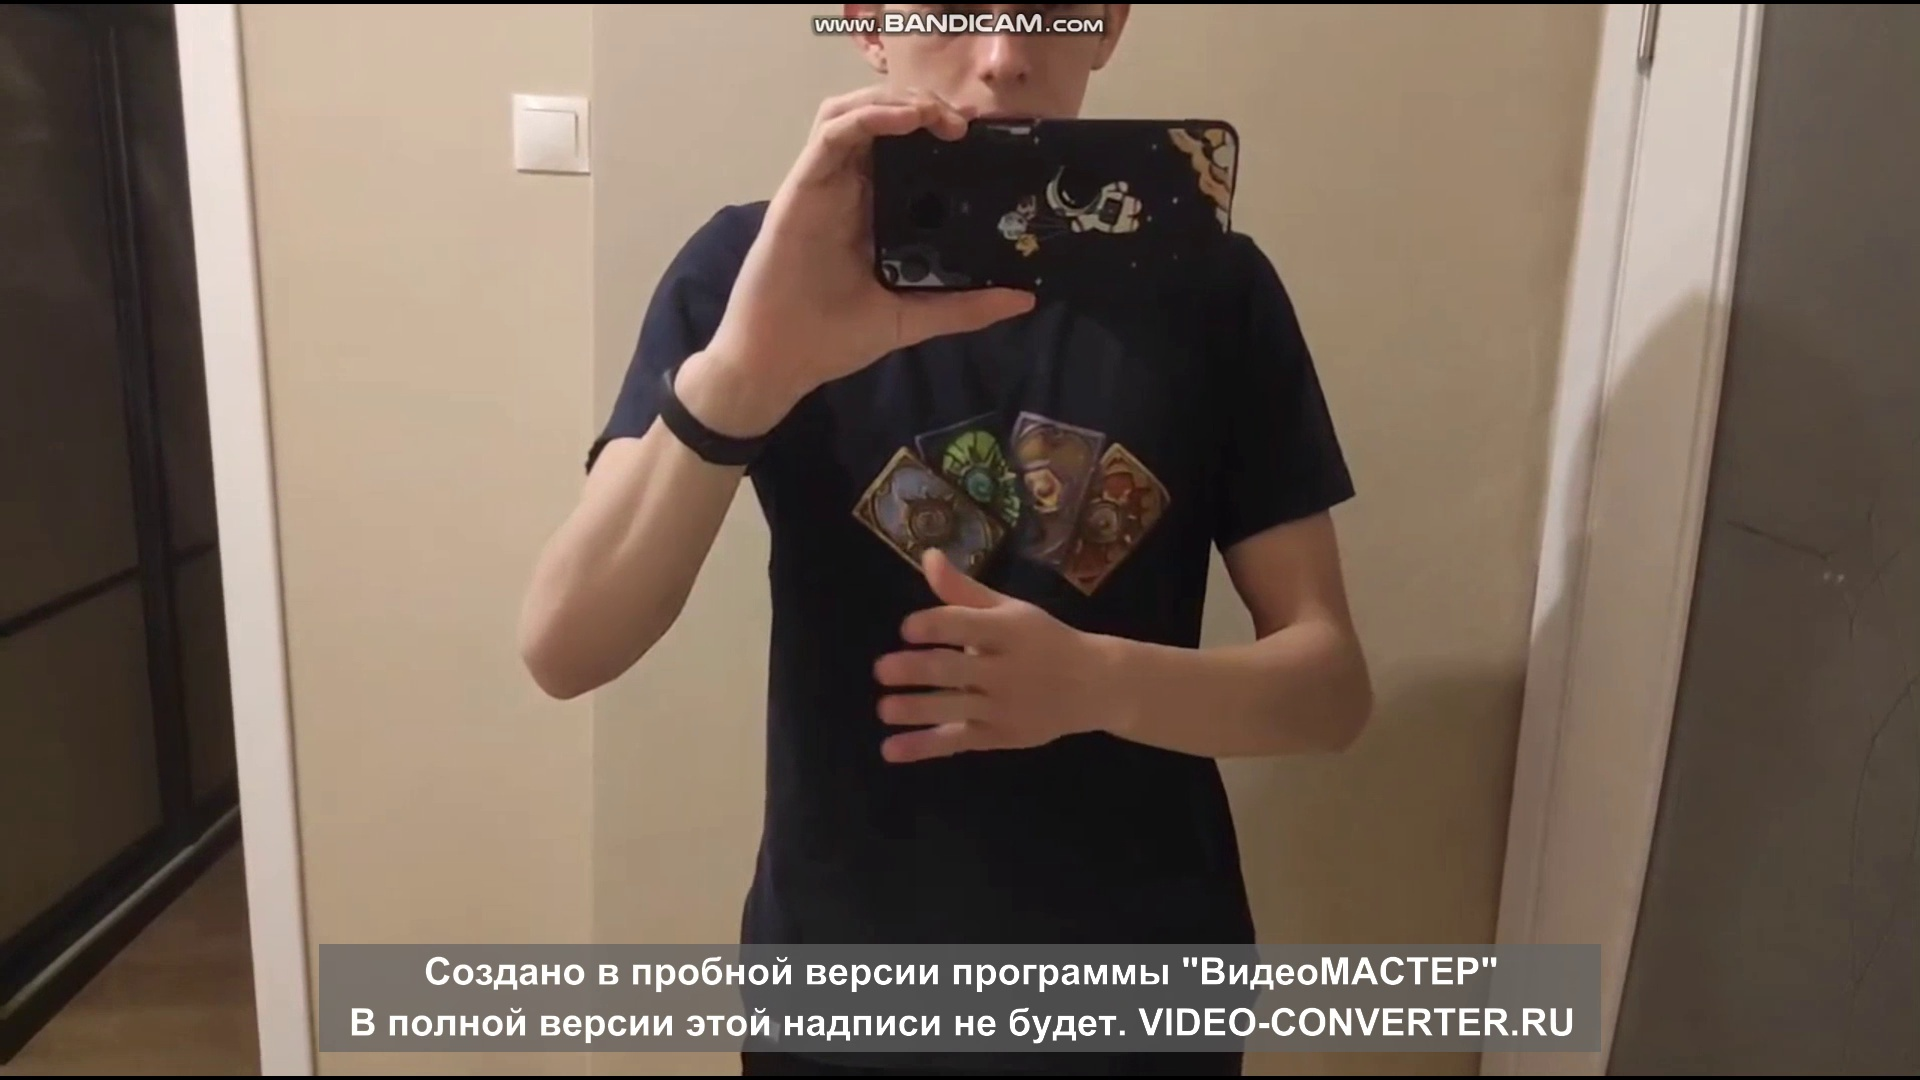Кисть: (873, 545, 1088, 760)
